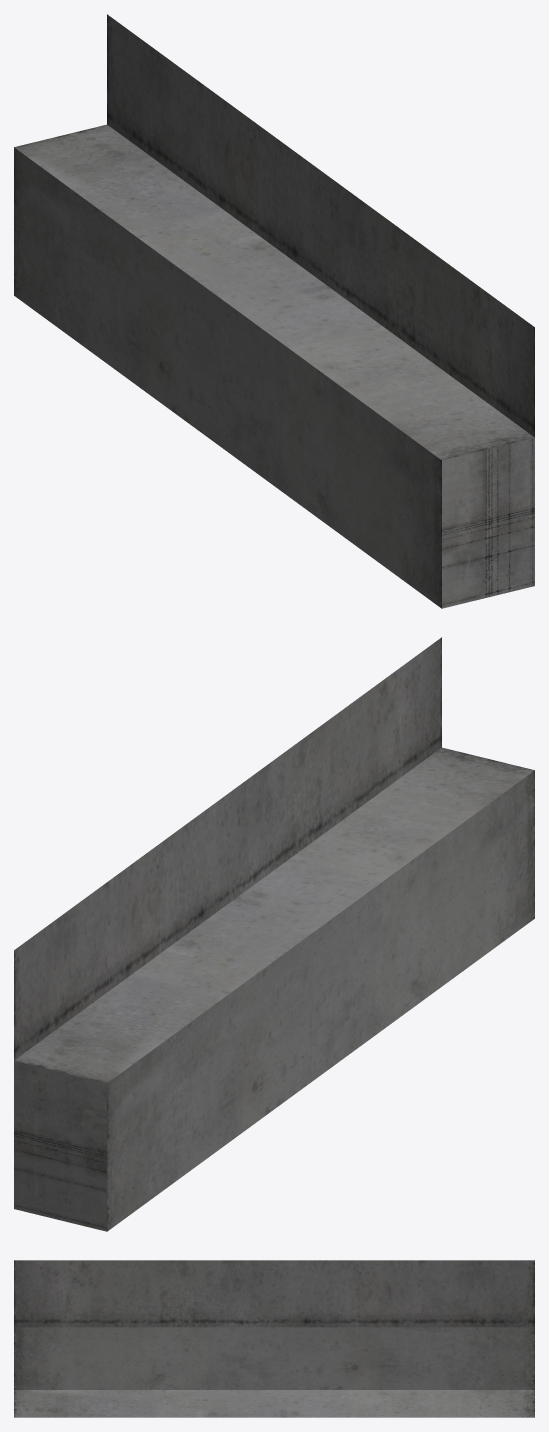
The model's file is SM_ICE00_01.fbx.
3 views of the same model, one above another, from view 1: azimuth 30°, elevation 25°; view 2: azimuth 150°, elevation 25°; view 3: azimuth 270°, elevation 25° (orthographic). The views are drawn at different scales.
Parts seen in each view (by area): view 1: SM_ICE00_01; view 2: SM_ICE00_01; view 3: SM_ICE00_01.
Boxes of the visible parts, x1,y1,x2,y2 form: SM_ICE00_01: (14,14,534,608); SM_ICE00_01: (14,637,534,1231); SM_ICE00_01: (14,1260,534,1417).
Bounding box in the file's own units: 505 × 1341 × 4020.
